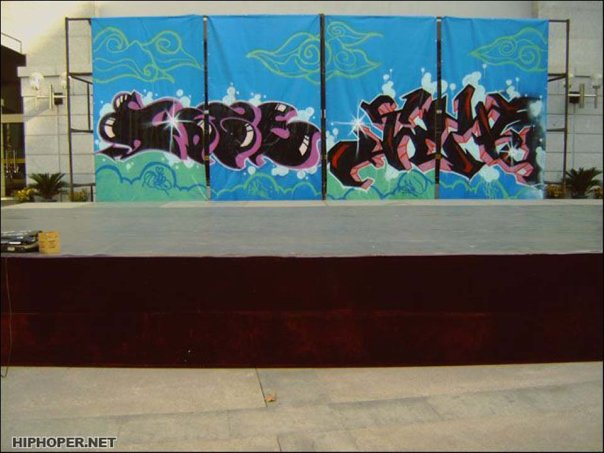graffity: (89, 15, 544, 198)
